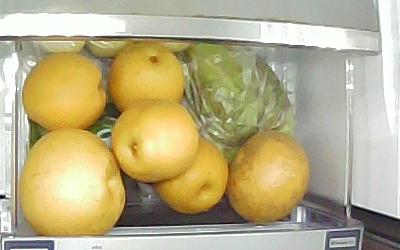pear: (17, 129, 125, 236), (228, 131, 310, 223), (112, 99, 198, 184), (22, 51, 107, 131), (153, 137, 229, 213), (109, 43, 184, 114)
